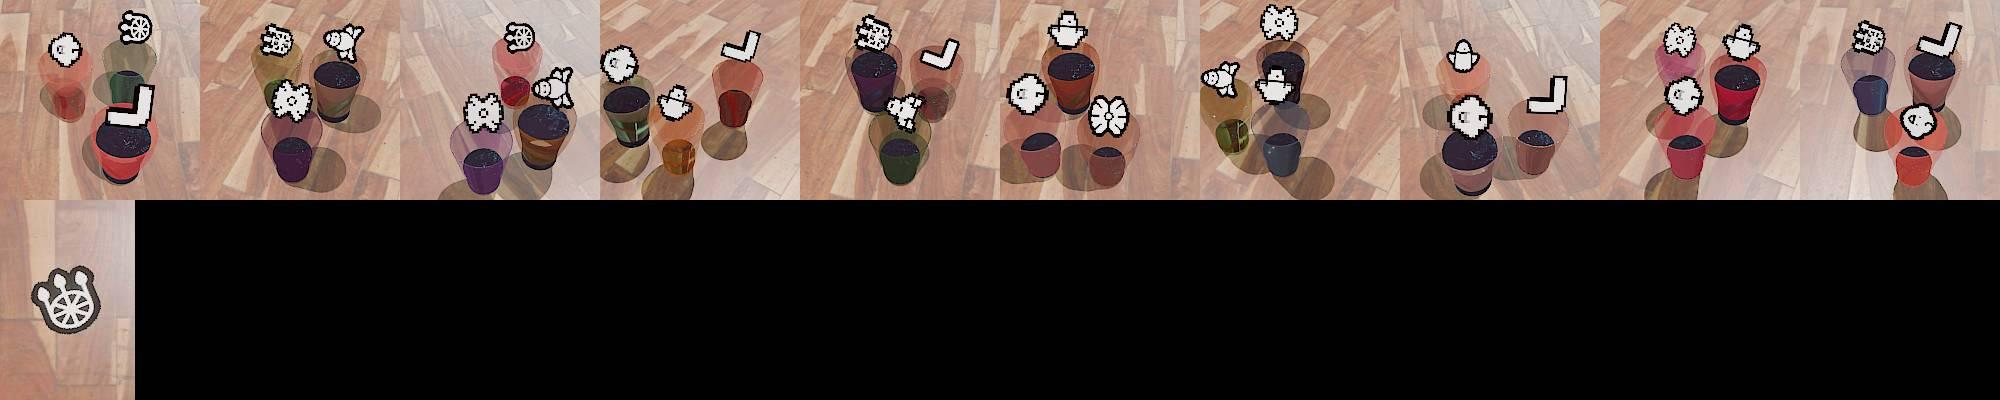icon: (29, 264, 102, 332), (105, 78, 154, 127), (1448, 93, 1492, 139), (269, 79, 314, 124), (532, 65, 575, 110), (462, 90, 505, 135), (1005, 71, 1047, 115), (1088, 93, 1129, 138), (323, 22, 365, 64), (1046, 9, 1089, 50), (1665, 74, 1705, 117), (1524, 74, 1568, 113), (1917, 22, 1962, 59), (884, 92, 925, 131), (853, 13, 894, 52), (601, 43, 639, 84), (1260, 3, 1298, 43), (656, 83, 694, 122), (1255, 65, 1295, 103), (1722, 23, 1761, 60), (1202, 61, 1240, 98), (1662, 20, 1699, 59), (719, 28, 760, 62), (47, 31, 83, 68), (1899, 103, 1936, 139), (117, 10, 153, 45), (1853, 19, 1888, 55), (1445, 38, 1481, 73), (921, 37, 958, 70), (259, 23, 295, 56), (504, 22, 537, 54)
